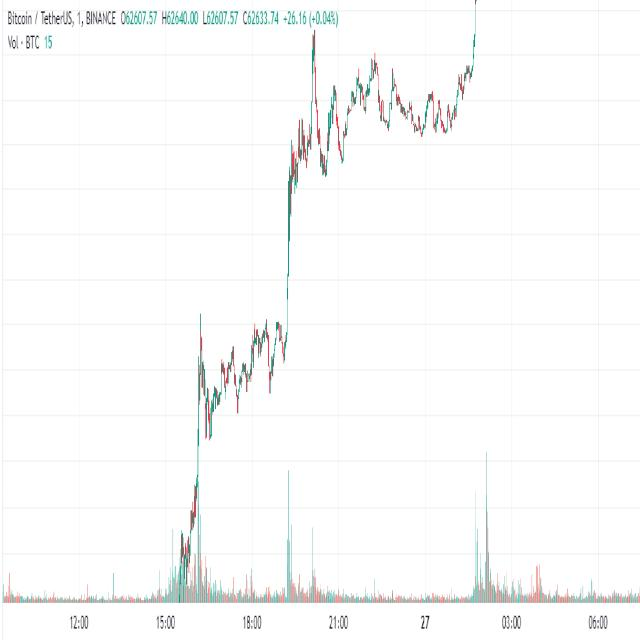Ascending-Triangle: (192, 315, 321, 478)
Triangle: (304, 4, 488, 198)
